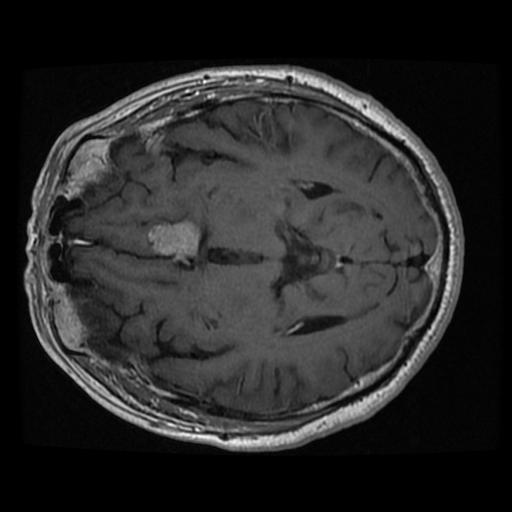pituitary tumour: (147, 222, 200, 257)
